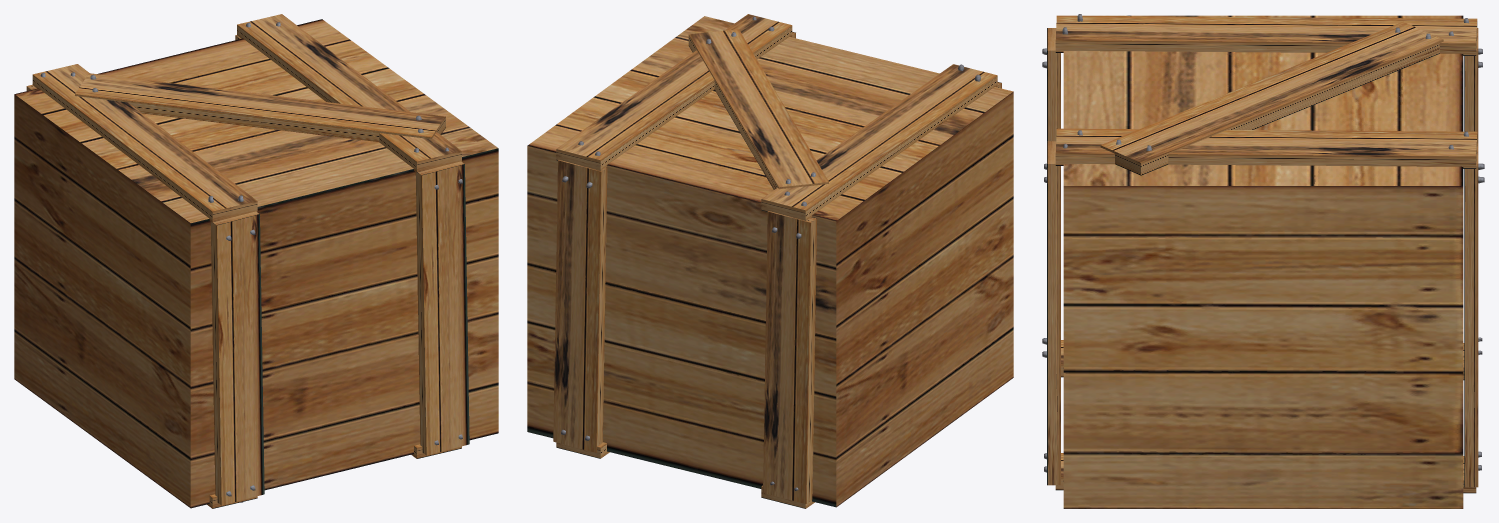
Rendered from kiste.obj.
The picture shows the model from 3 angles, left to right: view 1: azimuth 30°, elevation 25°; view 2: azimuth 150°, elevation 25°; view 3: azimuth 270°, elevation 25°; orthographic projection. The views are drawn at different scales.
Visible parts, largest first — view 1: kiste, pasted__balken balk_front_r, balken, pasted__pasted__pasted__balken pasted__pasted__group3 pasted__gr, pasted__balken balk_top_r, pasted__pasted__balken pasted__group3 balk_top_l; view 2: kiste, pasted__balken balk_back_r, pasted__pasted__balken pasted__group1 balk_back_l, pasted__balken balk_top_r, pasted__pasted__pasted__balken pasted__pasted__group3 pasted__gr, pasted__pasted__balken pasted__group3 balk_top_l; view 3: kiste, pasted__pasted__pasted__balken pasted__pasted__group3 pasted__gr, pasted__balken balk_top_r, pasted__pasted__balken pasted__group3 balk_top_l, pasted__pasted__balken pasted__group1 balk_back_l, pasted__balken balk_front_r, balken, pasted__balken balk_back_r.
Boxes of the visible parts, x1,y1,x2,y2 form: kiste: (14,19,498,508); pasted__balken balk_front_r: (415,161,469,455); balken: (210,211,264,505); pasted__pasted__pasted__balken pasted__pasted__group3 pasted__gr: (75,73,445,141); pasted__balken balk_top_r: (32,64,257,222); pasted__pasted__balken pasted__group3 balk_top_l: (237,14,461,172); kiste: (527,16,1013,507); pasted__balken balk_back_r: (763,211,816,503); pasted__pasted__balken pasted__group1 balk_back_l: (553,160,607,452); pasted__balken balk_top_r: (761,64,997,220); pasted__pasted__pasted__balken pasted__pasted__group3 pasted__gr: (688,29,828,189); pasted__pasted__balken pasted__group3 balk_top_l: (556,14,792,170); kiste: (1063,15,1463,508); pasted__pasted__pasted__balken pasted__pasted__group3 pasted__gr: (1100,22,1443,175); pasted__balken balk_top_r: (1055,15,1477,55); pasted__pasted__balken pasted__group3 balk_top_l: (1055,128,1477,168); pasted__pasted__balken pasted__group1 balk_back_l: (1464,143,1478,487); pasted__balken balk_front_r: (1047,141,1060,485); balken: (1047,28,1060,141); pasted__balken balk_back_r: (1464,28,1478,143).
Size of the model in its own units: 10.09 by 9.68 by 11.08.
